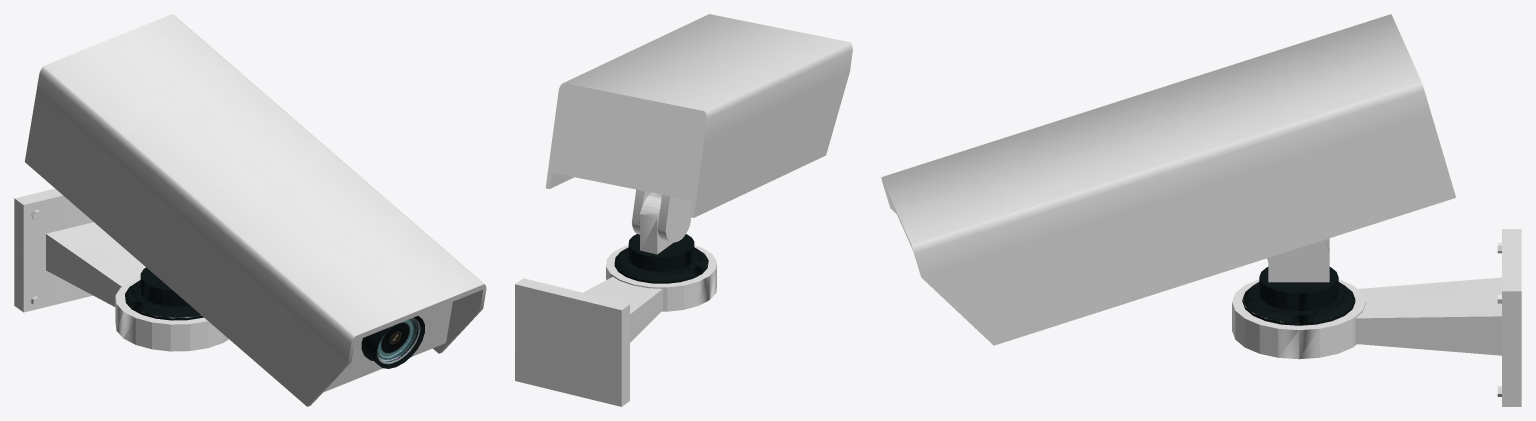
The model's file is camera.glb.
The picture shows the model from 3 angles, left to right: view 1: azimuth 30°, elevation 25°; view 2: azimuth 150°, elevation 25°; view 3: azimuth 270°, elevation 25°; orthographic projection. The views are drawn at different scales.
Parts seen in each view (by area): view 1: fab-plaggy-camera; view 2: fab-plaggy-camera; view 3: fab-plaggy-camera.
Part boxes in pixels (x1,y1,x2,y2): fab-plaggy-camera: (14,14,486,406); fab-plaggy-camera: (515,14,852,406); fab-plaggy-camera: (881,14,1521,406).
Size of the model in its own units: 0.4332 by 0.55 by 0.9927.
4 materials, 3 textured.
